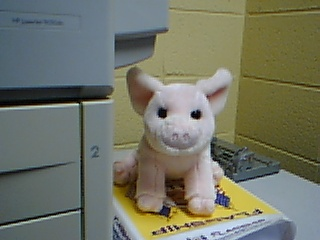piggy: (113, 65, 235, 218)
